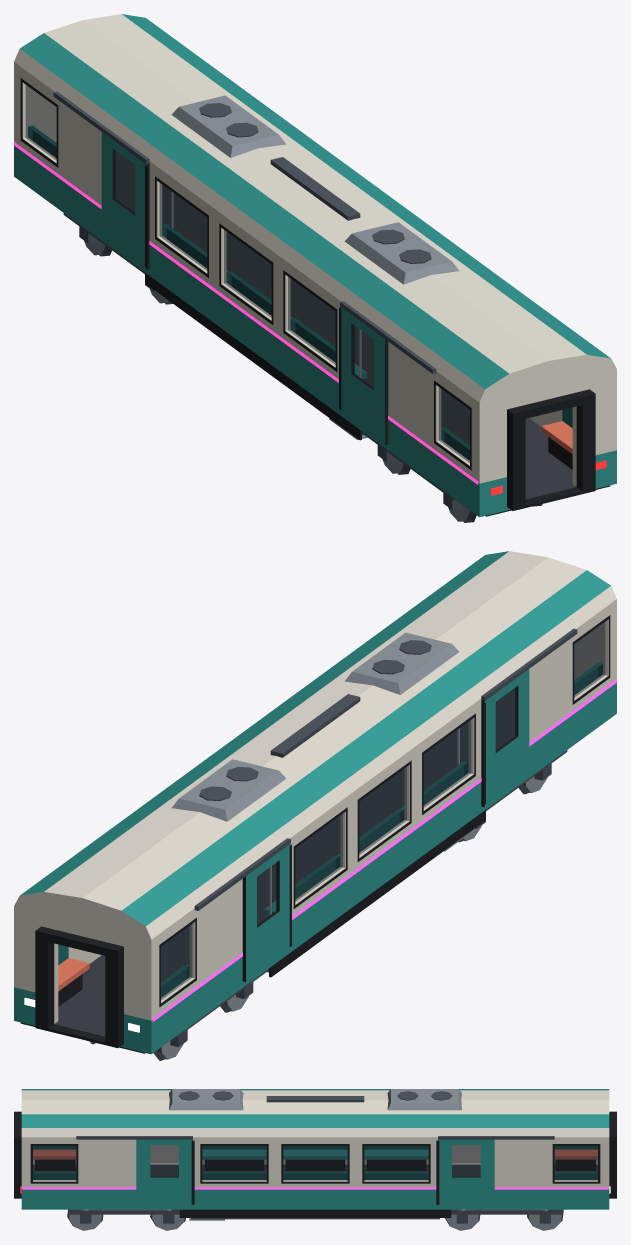
Rendered from train_car.glb.
The picture shows the model from 3 angles, top to bottom: view 1: azimuth 30°, elevation 25°; view 2: azimuth 150°, elevation 25°; view 3: azimuth 270°, elevation 25°; orthographic projection. The views are drawn at different scales.
Visible parts, largest first — view 1: Body, Door_L1, Door_L2, Bogie_R, Bogie_F; view 2: Body, Door_L2, Door_L1, Bogie_F, Bogie_R; view 3: Body, Door_R1, Door_R2, Bogie_F, Bogie_R, Door_L1, Door_L2.
Part boxes in pixels (x1,y1,x2,y2): Body: (14, 14, 616, 517); Door_L1: (339, 306, 388, 444); Door_L2: (101, 132, 149, 270); Bogie_R: (362, 431, 542, 522); Bogie_F: (63, 213, 172, 304); Body: (14, 551, 616, 1054); Door_L2: (242, 844, 291, 981); Door_L1: (481, 669, 529, 807); Bogie_F: (89, 968, 268, 1060); Bogie_R: (458, 750, 567, 842); Body: (14, 1089, 616, 1220); Door_R1: (136, 1139, 194, 1206); Door_R2: (436, 1139, 494, 1206); Bogie_F: (445, 1209, 563, 1230); Bogie_R: (67, 1209, 185, 1230); Door_L1: (150, 1145, 178, 1162); Door_L2: (452, 1145, 480, 1162).
Bounding box in the file's own units: 2.8 × 3.65 × 16.
